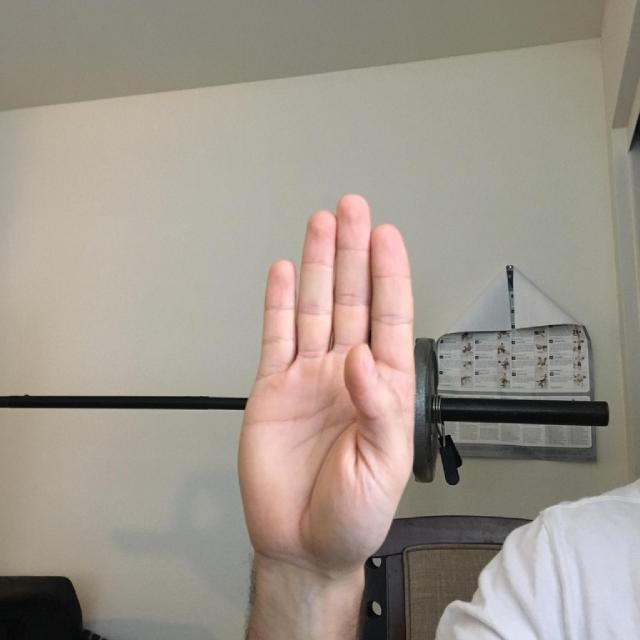B: (224, 144, 456, 586)
